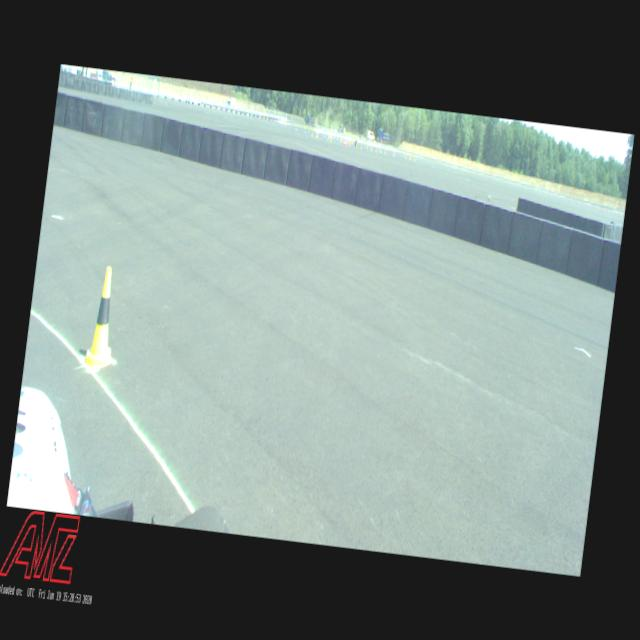yellow_cone: (82, 264, 125, 372)
